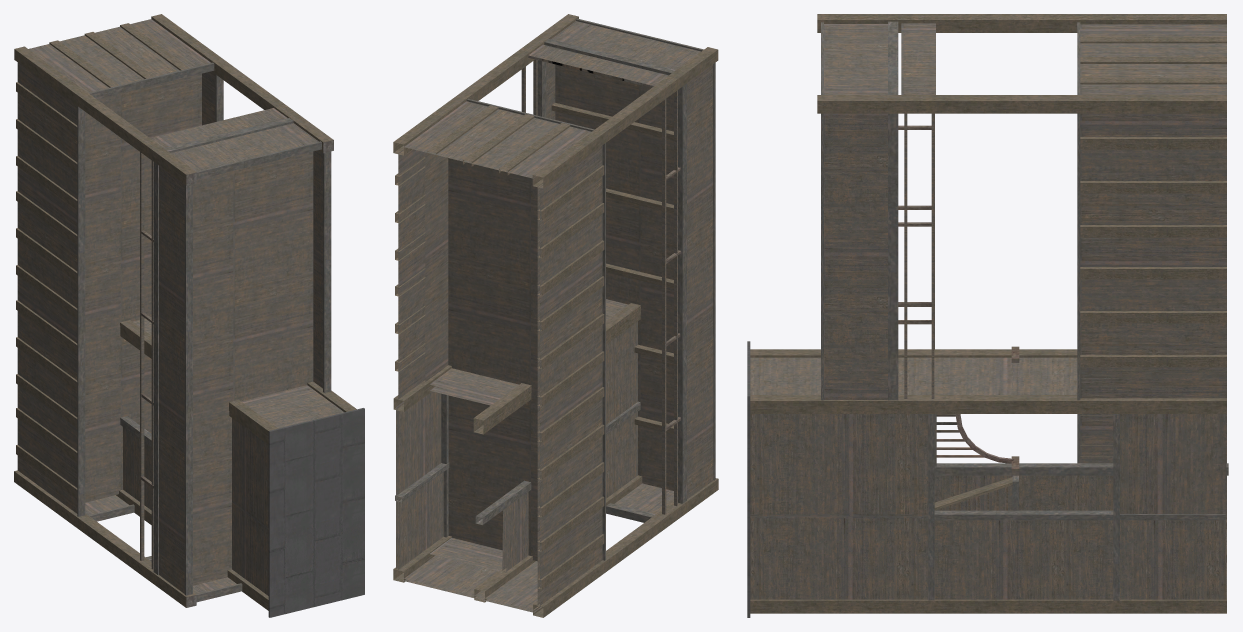
Rendered from bld_107_04_StadiumStands_01_a.glb.
The picture shows the model from 3 angles, left to right: view 1: azimuth 30°, elevation 25°; view 2: azimuth 150°, elevation 25°; view 3: azimuth 270°, elevation 25°; orthographic projection. The views are drawn at different scales.
Visible parts, largest first — view 1: set_0_group_0; view 2: set_0_group_0; view 3: set_0_group_0.
Part boxes in pixels (<box>): set_0_group_0: <box>14,14,364,617</box>; set_0_group_0: <box>393,14,718,617</box>; set_0_group_0: <box>747,14,1228,617</box>.
Bounding box in the file's own units: 4.45 × 12.39 × 10.44.
1 material, 1 textured.
